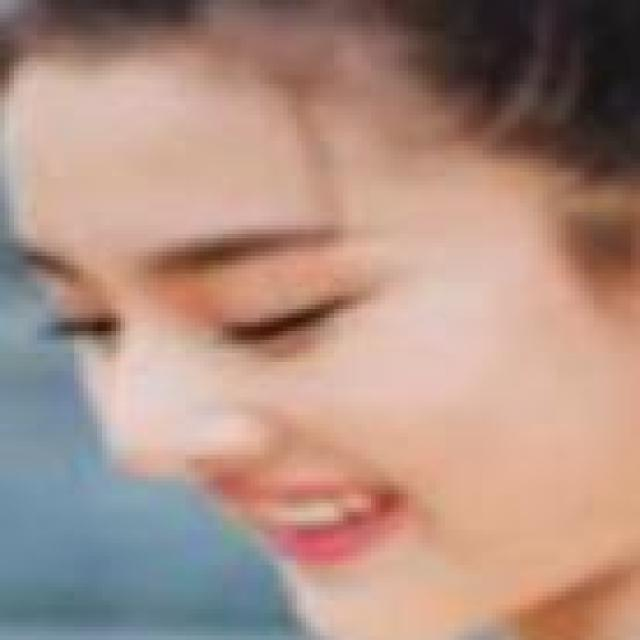no_mask: (17, 55, 624, 625)
